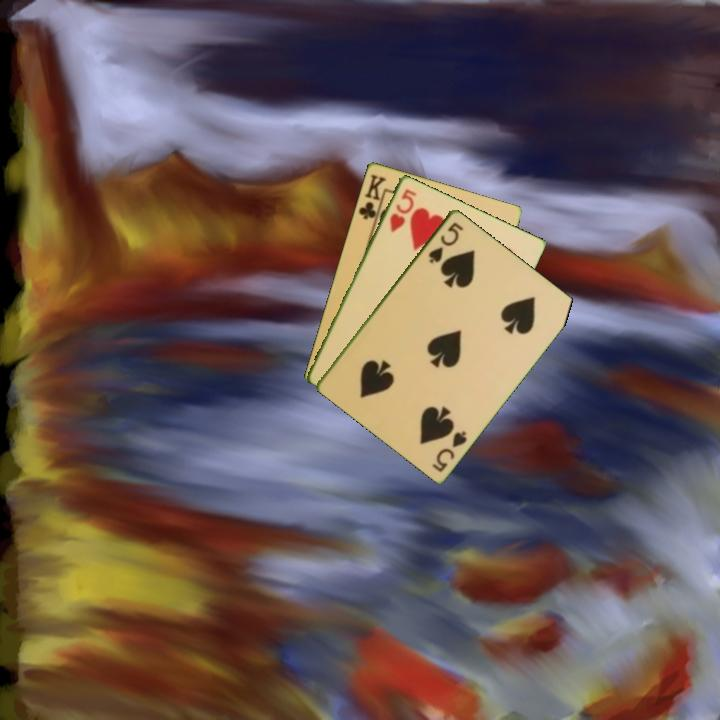5h: (386, 185, 419, 235)
5s: (428, 427, 470, 474), (425, 218, 466, 266)
Kc: (355, 170, 389, 227)
